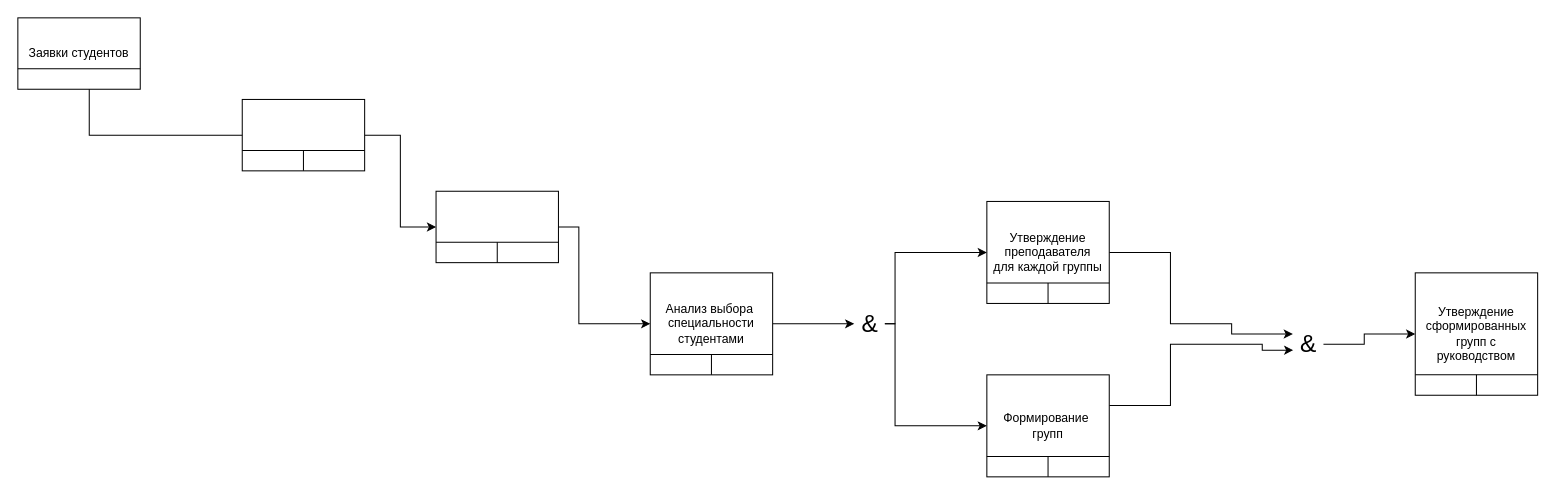
Some shapes in this 1557 by 496 pixel diagram are drawn without their labels. Here are the shapes that lost their labels. From the top down, the centre of each, then its label:
At pixel 303 134: "Прием заявок".
At pixel 496 226: "Обработка заявок".
